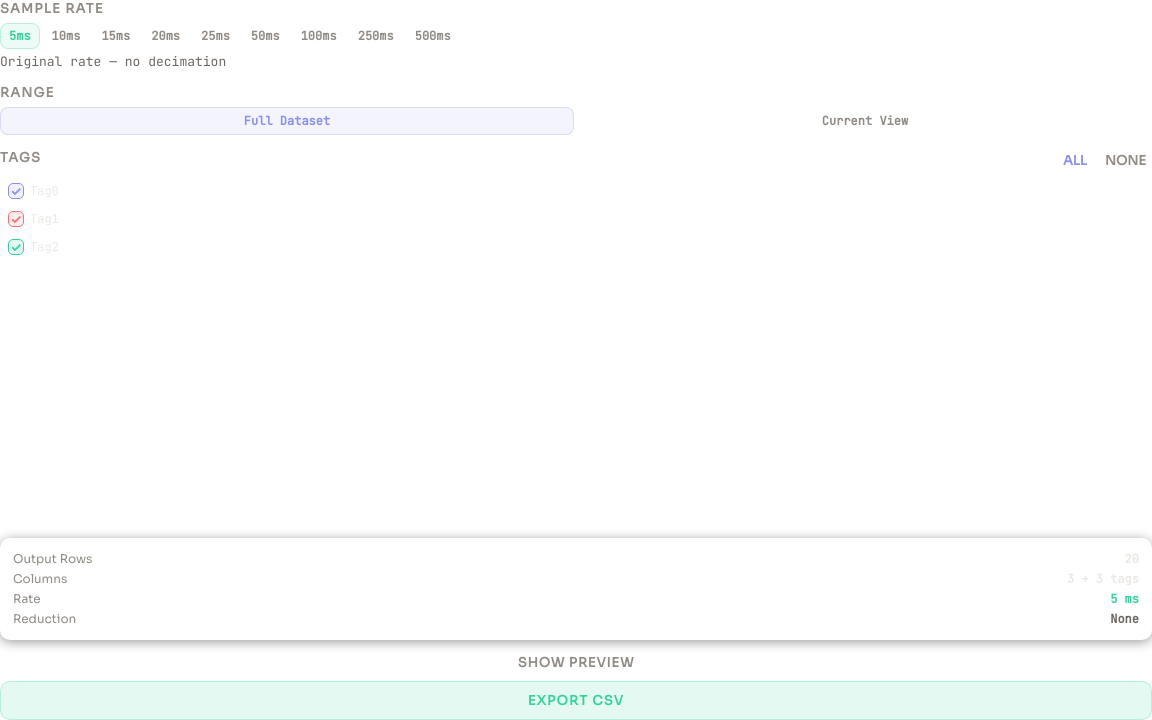
ExportPanel › clicking SHOW PREVIEW renders preview content
Click the button "SHOW PREVIEW".
click(576, 662)  # box [0,648,1151,677]
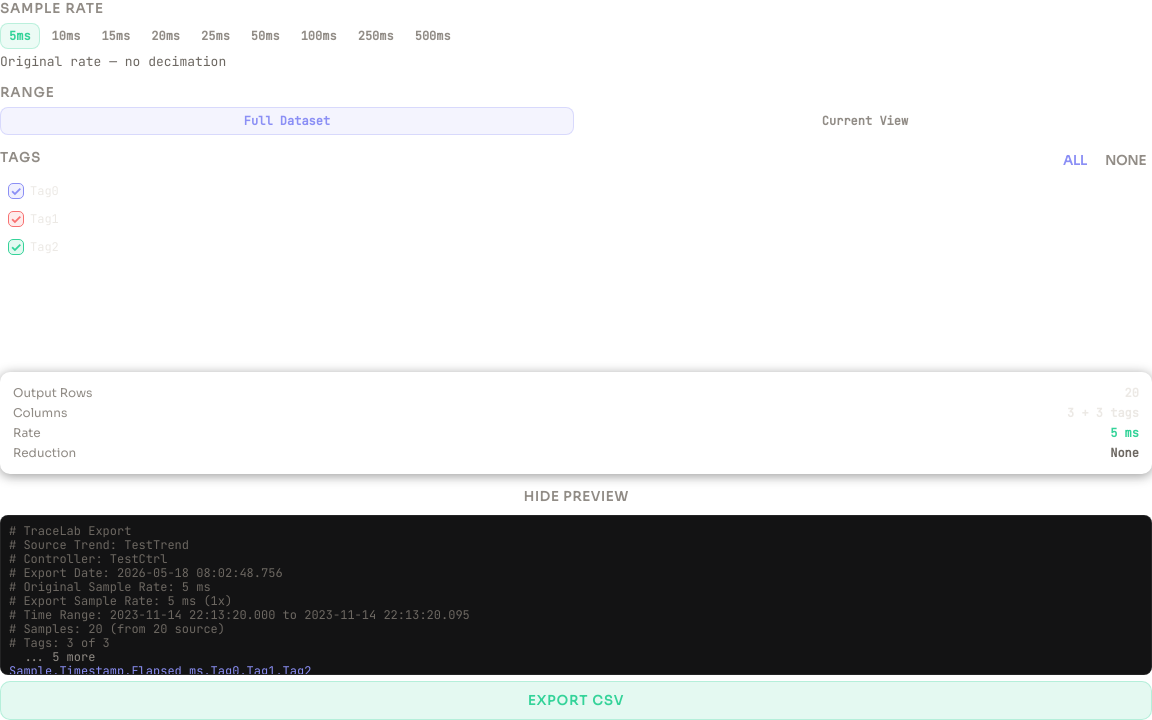
Expected: the button "HIDE PREVIEW" is shown, [0,482,1151,511]
Expected: the text "# TraceLab Export" is shown, [9,523,131,539]
